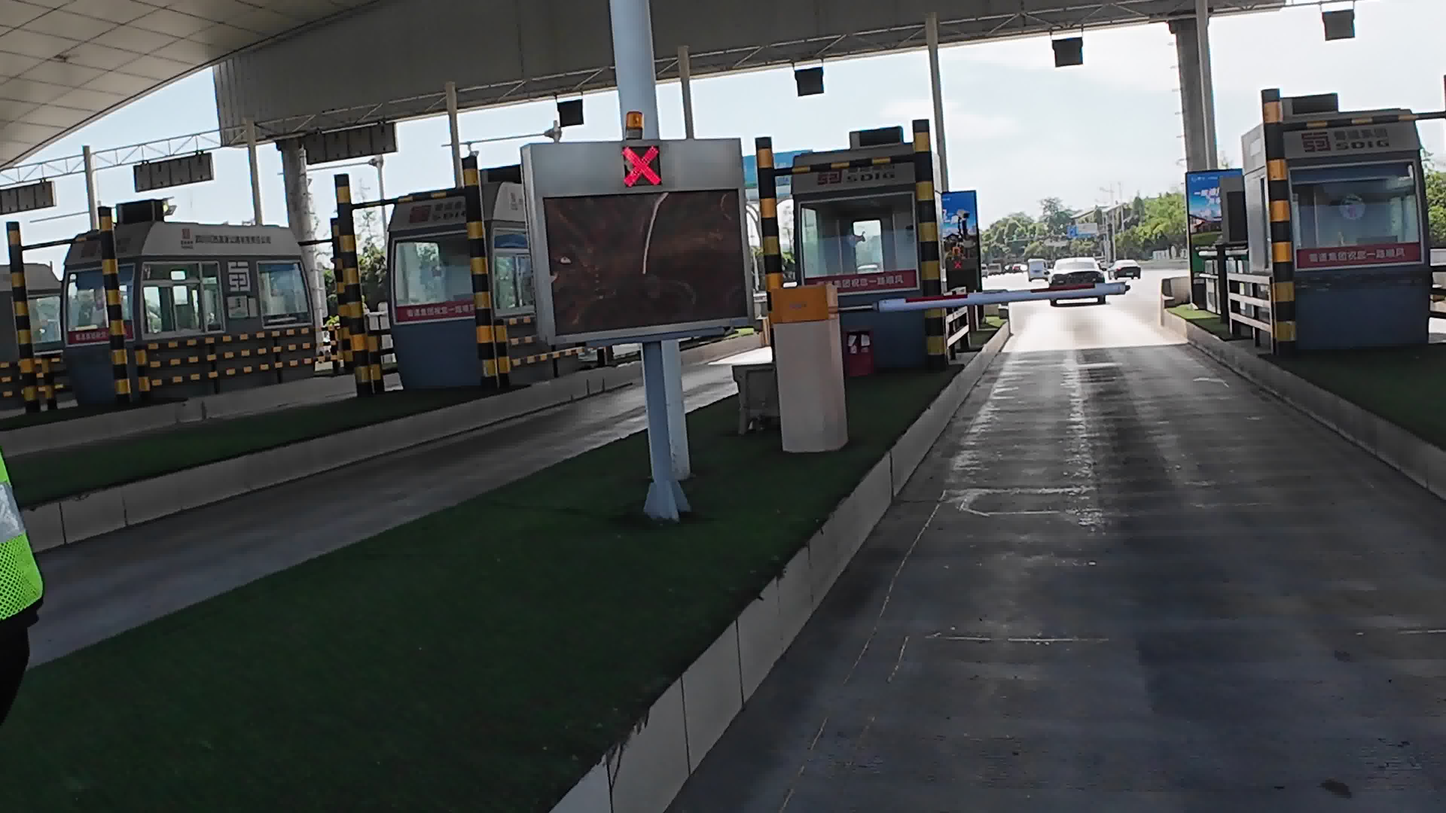led_screen: (520, 145, 758, 352), (1169, 158, 1245, 341), (926, 195, 991, 313), (111, 136, 231, 199), (284, 126, 406, 172), (763, 53, 847, 106), (538, 91, 589, 142), (1042, 33, 1091, 74), (1316, 10, 1368, 44)
toll_booth: (1252, 104, 1446, 351), (76, 221, 320, 399), (795, 127, 964, 359), (385, 176, 549, 375)
